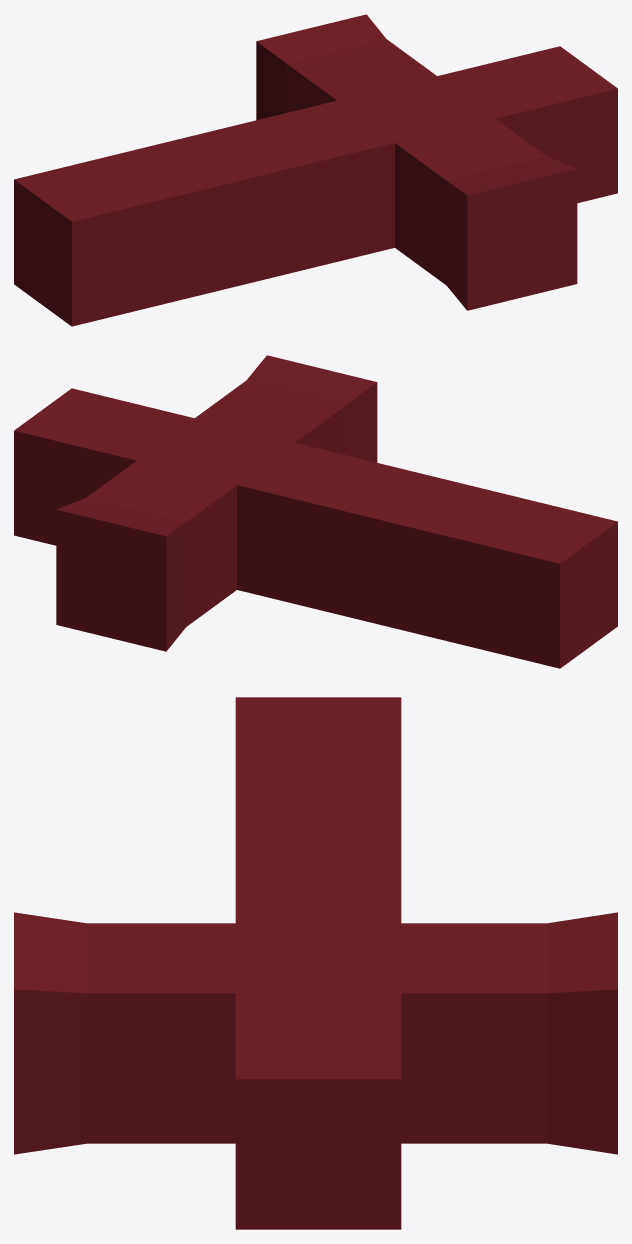
The model's file is kreuz.fbx.
The picture shows the model from 3 angles, top to bottom: view 1: azimuth 30°, elevation 25°; view 2: azimuth 150°, elevation 25°; view 3: azimuth 270°, elevation 25°; orthographic projection. The views are drawn at different scales.
Visible parts, largest first — view 1: Cube; view 2: Cube; view 3: Cube.
Boxes of the visible parts, x1,y1,x2,y2 form: Cube: (14,14,617,326); Cube: (14,355,617,668); Cube: (14,697,617,1229).
Bounding box in the file's own units: 10.9 × 2.2 × 7.29.
